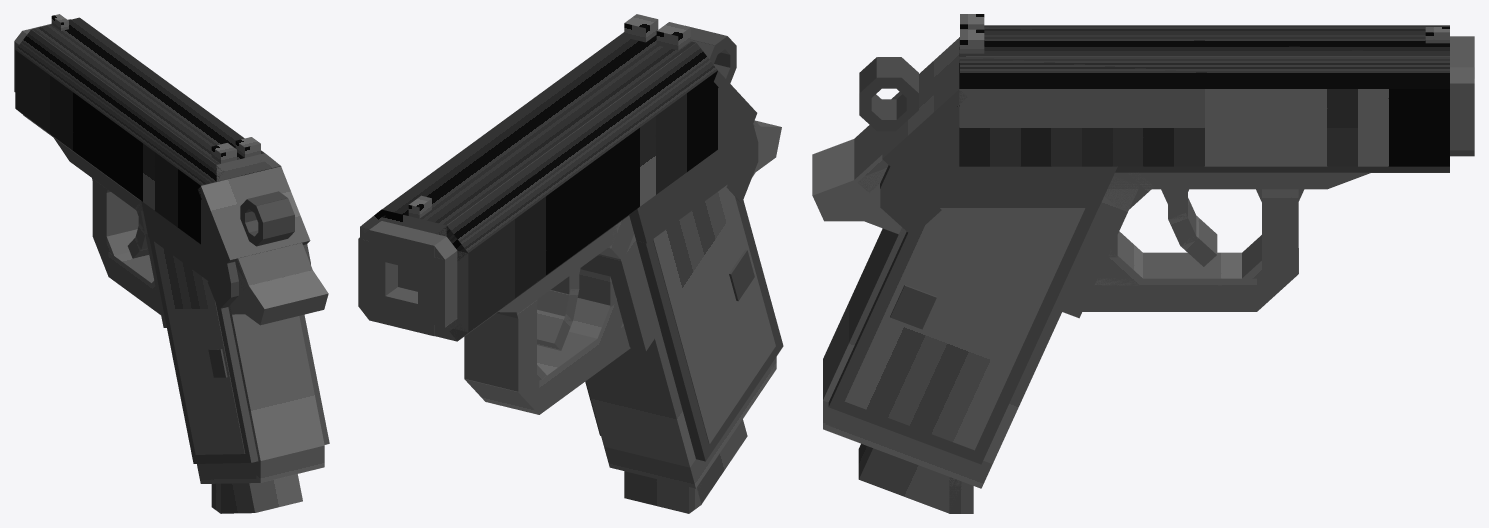
File: mteg_walther_ppk.glb
3 renders of one model, left to right at view 1: azimuth 30°, elevation 25°; view 2: azimuth 150°, elevation 25°; view 3: azimuth 270°, elevation 25°, orthographic. The views are drawn at different scales.
Visible parts, largest first — view 1: Gun; view 2: Gun; view 3: Gun.
Part boxes in pixels (x1=…): Gun: x1=14, y1=14, x2=329, y2=513; Gun: x1=358, y1=14, x2=783, y2=513; Gun: x1=812, y1=14, x2=1474, y2=513.
Bounding box in the file's own units: 0.0642 × 0.2654 × 0.3377.
Materials: 1 (1 with a texture image).
